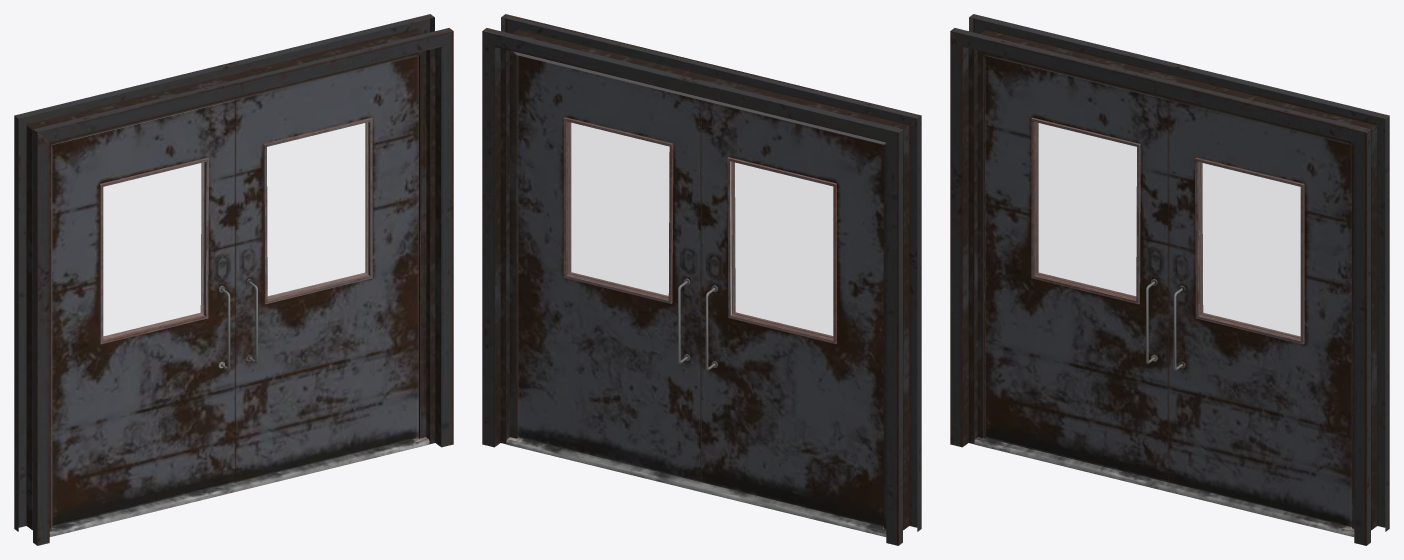
Rendered from door_heavy.glb.
3 views of the same model, side by side, from view 1: azimuth 30°, elevation 25°; view 2: azimuth 150°, elevation 25°; view 3: azimuth 330°, elevation 25° (orthographic).
Parts seen in each view (by area): view 1: Object_2, Object_4; view 2: Object_2, Object_4; view 3: Object_2, Object_4.
Boxes of the visible parts, box(x1,y1,x2,y2) form: Object_2: box(14, 14, 453, 545); Object_4: box(103, 123, 368, 339); Object_2: box(482, 14, 921, 545); Object_4: box(568, 122, 832, 338); Object_2: box(950, 14, 1389, 545); Object_4: box(1035, 123, 1300, 339).
Size of the model in its own units: 2.1 by 1.99 by 0.2037.
2 materials, 1 textured.
